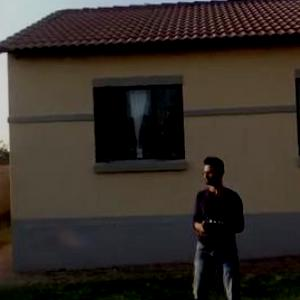follow: (186, 150, 248, 299)
